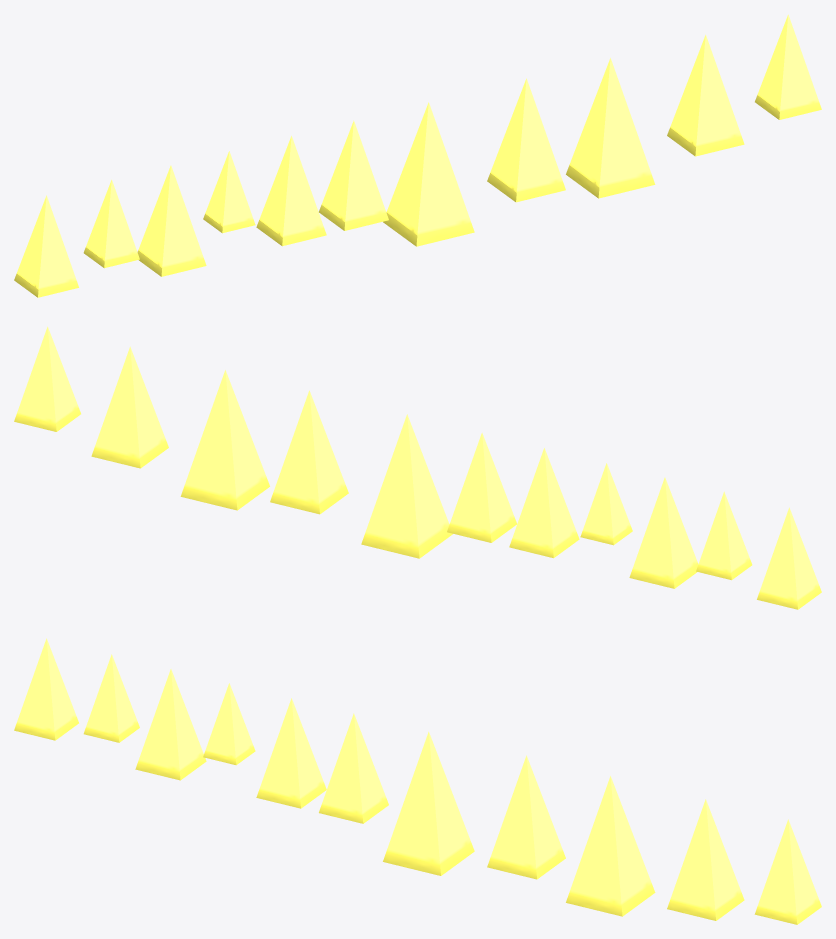
Rendered from UpperLights01_Art.fbx.
The picture shows the model from 3 angles, top to bottom: view 1: azimuth 30°, elevation 25°; view 2: azimuth 150°, elevation 25°; view 3: azimuth 330°, elevation 25°; orthographic projection.
Parts seen in each view (by area): view 1: UpperLights01_Art; view 2: UpperLights01_Art; view 3: UpperLights01_Art.
Boxes of the visible parts, x1=… form: UpperLights01_Art: x1=14, y1=14, x2=821, y2=297; UpperLights01_Art: x1=14, y1=326, x2=821, y2=609; UpperLights01_Art: x1=14, y1=638, x2=821, y2=924.
Bounding box in the file's own units: 2.57 × 0.3932 × 0.1914.
